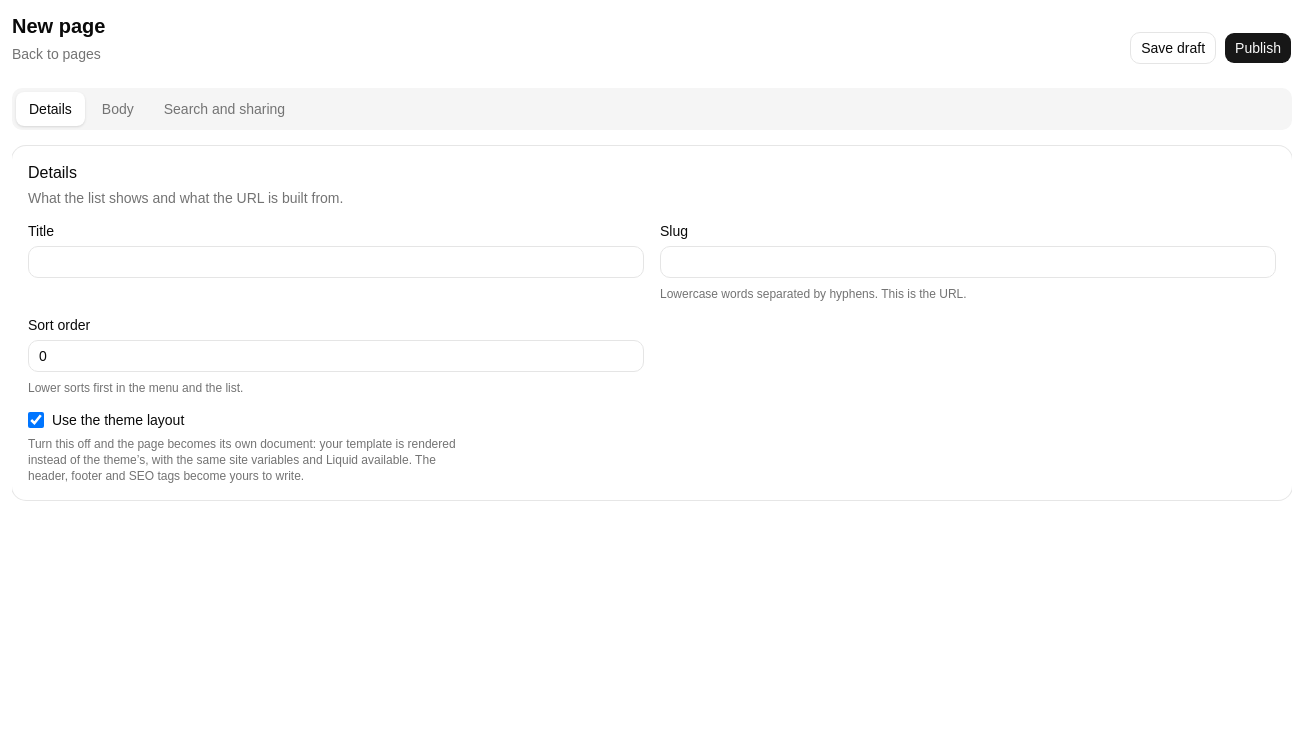
saving a page › reports a reserved path on the same field, with the reason
Type "Installer" into the field labelled "Title". click: (336, 262)
box: [28,246,644,278]
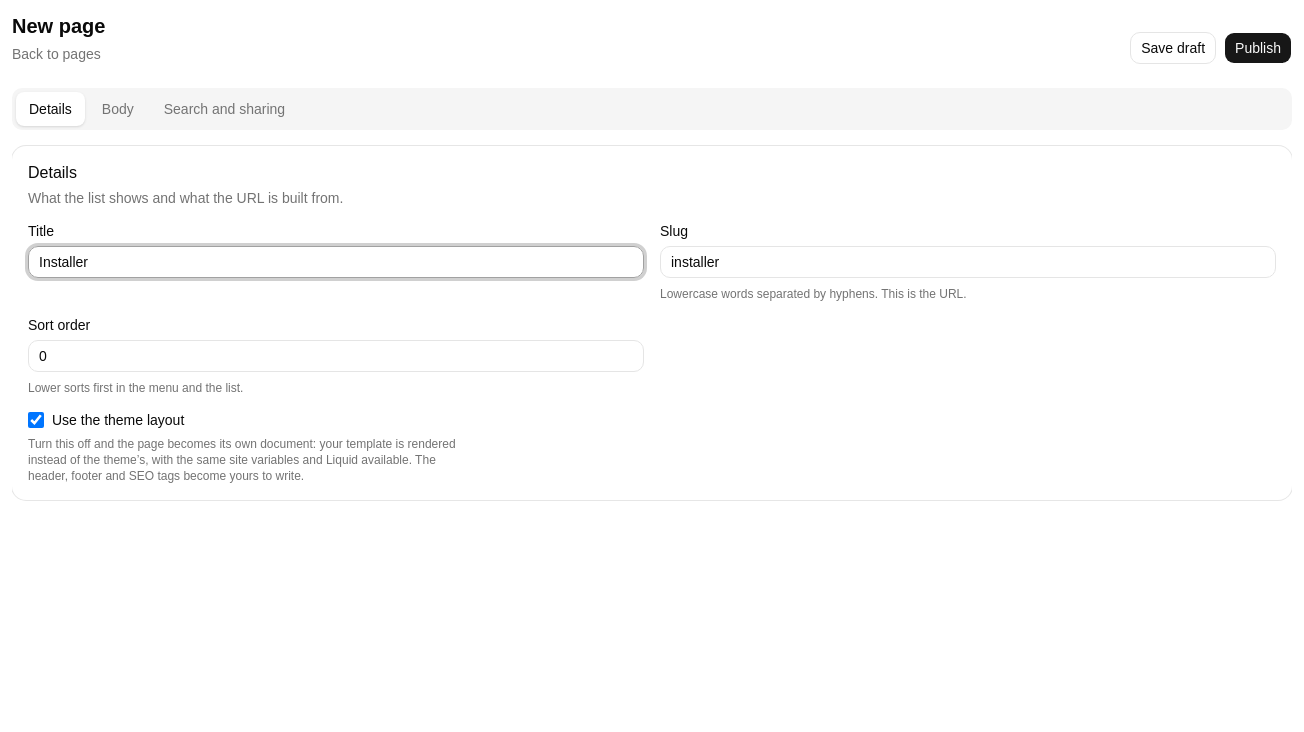
Click the button "Publish". click: (1258, 48)
box: [1224,32,1292,64]
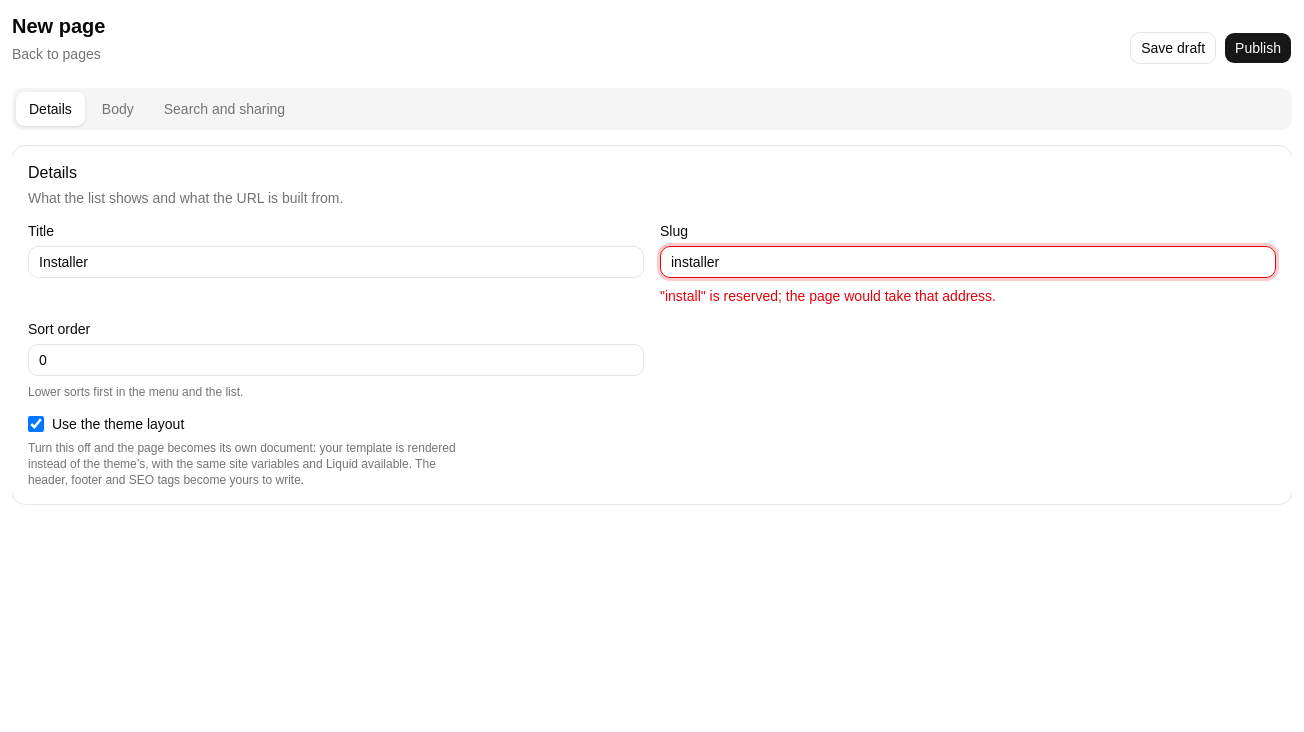
expect the text "\"install\" is reserved; the page would take that address." is shown: met, box [660,288,996,304]
